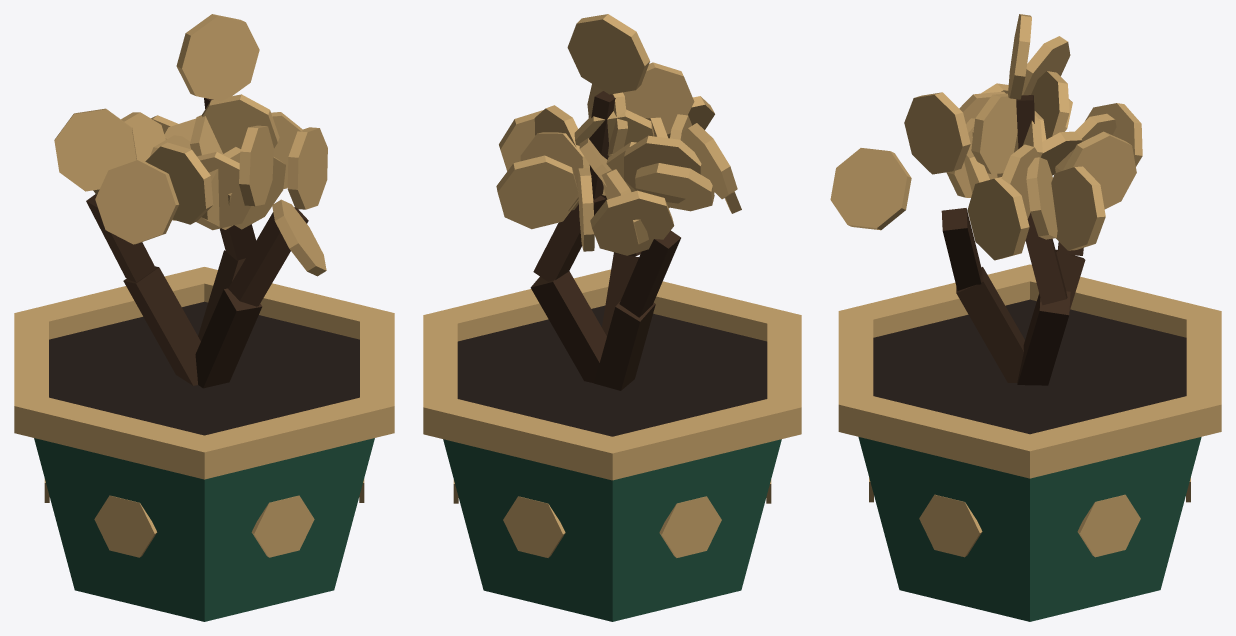
3 views of the same model, side by side, from view 1: azimuth 30°, elevation 25°; view 2: azimuth 150°, elevation 25°; view 3: azimuth 270°, elevation 25° (orthographic).
Visible parts, largest first — view 1: furniture_21_plant_unique_moneytree; view 2: furniture_21_plant_unique_moneytree; view 3: furniture_21_plant_unique_moneytree.
Part boxes in pixels (<box>): furniture_21_plant_unique_moneytree: <box>14,14,394,621</box>; furniture_21_plant_unique_moneytree: <box>423,14,801,621</box>; furniture_21_plant_unique_moneytree: <box>830,14,1221,621</box>.
Bounding box in the file's own units: 0.8795 × 1.2 × 0.7777.
